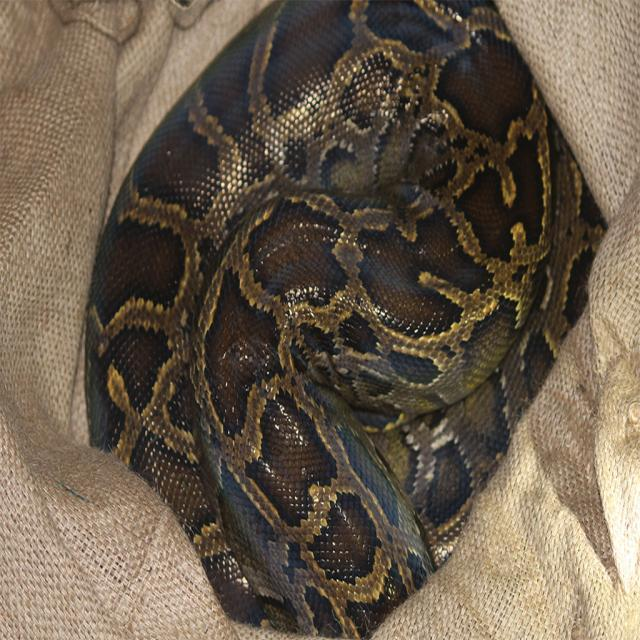Snake: (82, 0, 606, 637)
